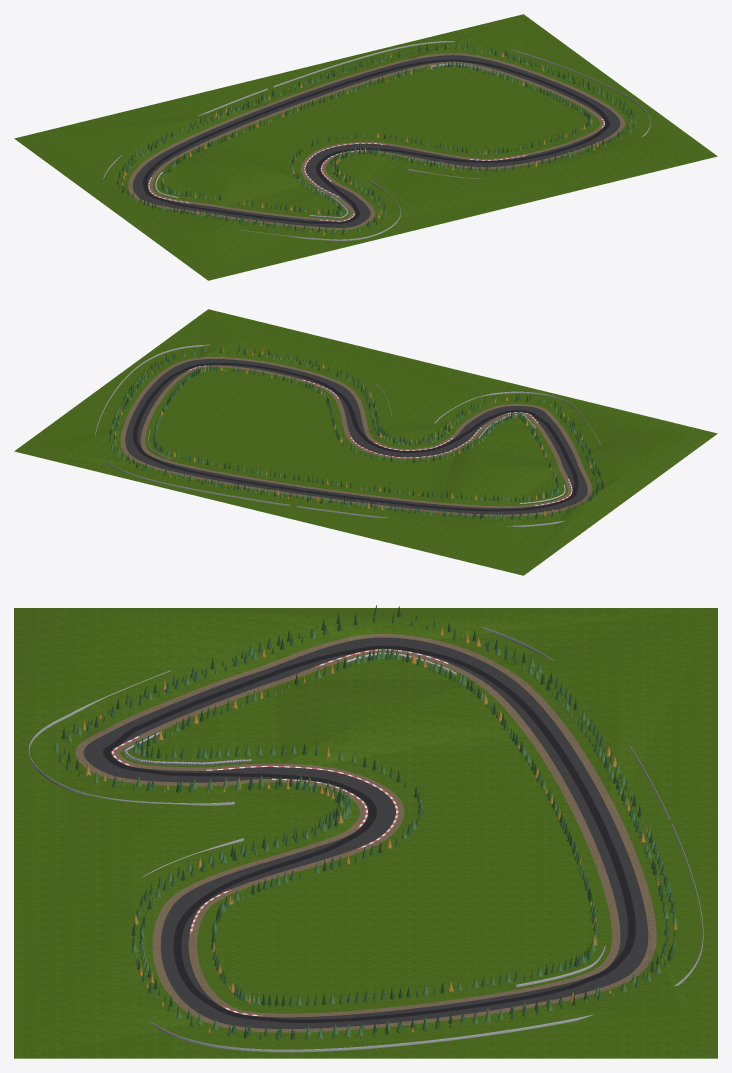
Rendered from track.glb.
3 views of the same model, one above another, from view 1: azimuth 30°, elevation 25°; view 2: azimuth 150°, elevation 25°; view 3: azimuth 270°, elevation 25° (orthographic). The views are drawn at different scales.
Parts seen in each view (by area): view 1: surface_grass, surface_asphalt, surface_dirt, racing_line, prop_tree_foliage, prop_tree_foliage_light, surface_wall, prop_tree_foliage_deep, prop_tree_foliage_gold; view 2: surface_grass, surface_asphalt, surface_dirt, racing_line, prop_tree_foliage, prop_tree_foliage_light, surface_wall, prop_tree_foliage_deep, prop_tree_foliage_gold; view 3: surface_grass, surface_asphalt, surface_dirt, racing_line, prop_tree_foliage, prop_tree_foliage_light, surface_wall, prop_tree_foliage_deep, prop_tree_foliage_gold, surface_kerb_red, surface_kerb_white.
Part boxes in pixels (box(x1,y1,x2,y2)): surface_grass: box(14, 14, 717, 280); surface_asphalt: box(133, 55, 620, 227); surface_dirt: box(128, 53, 624, 229); racing_line: box(142, 59, 609, 223); prop_tree_foliage: box(117, 42, 635, 234); prop_tree_foliage_light: box(118, 41, 632, 232); surface_wall: box(103, 41, 650, 240); prop_tree_foliage_deep: box(116, 44, 632, 234); prop_tree_foliage_gold: box(121, 50, 636, 235); surface_grass: box(14, 309, 717, 575); surface_asphalt: box(125, 359, 587, 514); surface_dirt: box(120, 357, 592, 516); racing_line: box(132, 363, 578, 511); prop_tree_foliage: box(109, 345, 602, 519); prop_tree_foliage_light: box(110, 345, 601, 519); surface_wall: box(95, 344, 601, 526); prop_tree_foliage_deep: box(109, 347, 603, 519); prop_tree_foliage_gold: box(113, 348, 591, 515); surface_grass: box(14, 608, 717, 1058); surface_asphalt: box(83, 637, 648, 1028); surface_dirt: box(75, 634, 656, 1032); racing_line: box(102, 645, 636, 1023); prop_tree_foliage: box(58, 605, 676, 1040); prop_tree_foliage_light: box(53, 613, 677, 1039); surface_wall: box(28, 626, 703, 1052); prop_tree_foliage_deep: box(61, 606, 671, 1039); prop_tree_foliage_gold: box(82, 624, 677, 1033); surface_kerb_red: box(112, 649, 444, 1016); surface_kerb_white: box(111, 649, 448, 1015).
Bounding box in the file's own units: 382 × 10.11 × 253.
15 materials, 15 textured.
